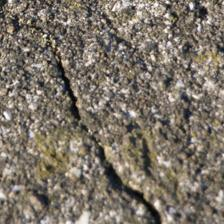Crack: (54, 57, 162, 220)
